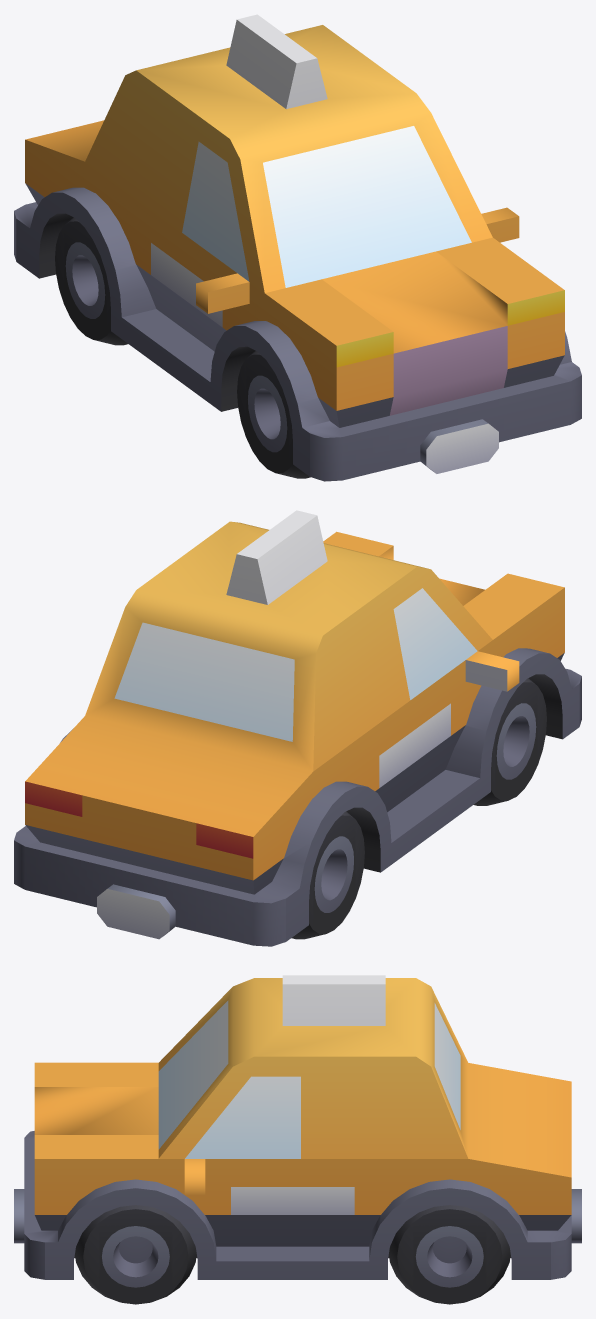
Rendered from taxi.glb.
The picture shows the model from 3 angles, top to bottom: view 1: azimuth 30°, elevation 25°; view 2: azimuth 150°, elevation 25°; view 3: azimuth 270°, elevation 25°; orthographic projection. The views are drawn at different scales.
Parts seen in each view (by area): view 1: body; view 2: body; view 3: body.
Part boxes in pixels (x1,y1,x2,y2): body: (14, 14, 581, 481); body: (14, 510, 581, 946); body: (14, 975, 581, 1304).
Size of the model in its own units: 1.5 by 1.5 by 2.75.
Materials: 1 (1 with a texture image).
